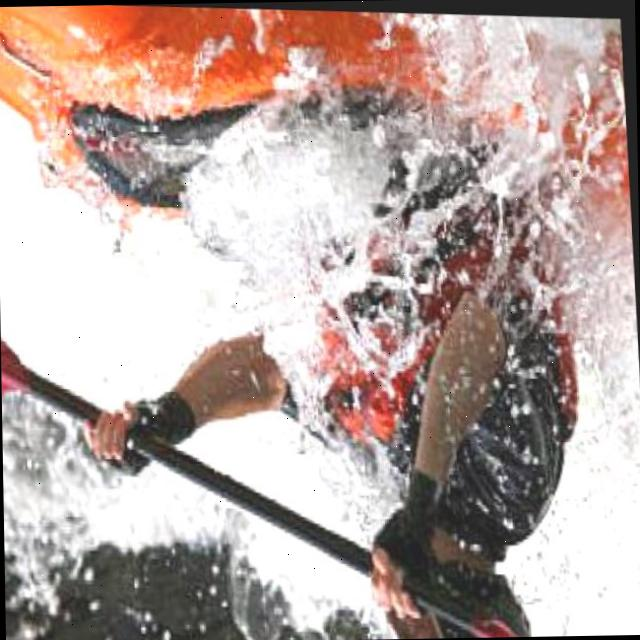kayak: (0, 3, 448, 183)
